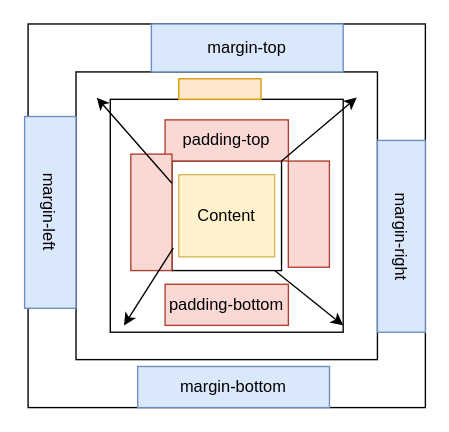
The diagram is 449 pixels wide and 432 high, and some of its shapes have lost their labels. The centre of each missing label's shape, as x and y in pixels:
"border" belongs at point 219,88.
"padding-left" belongs at point 150,212.
"padding-right" belongs at point 308,213.
